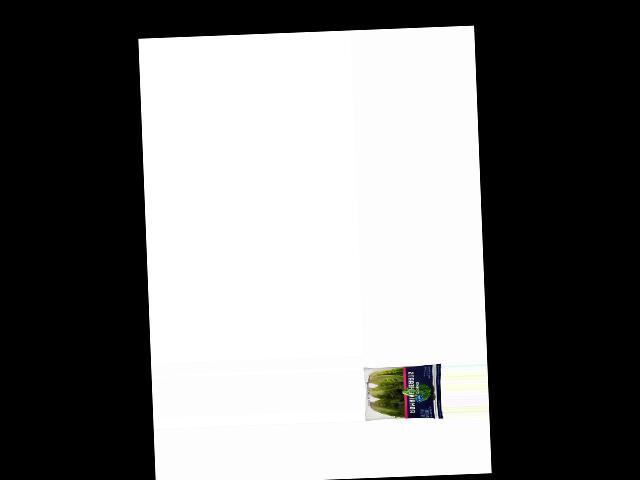lettuce: (365, 361, 441, 423)
